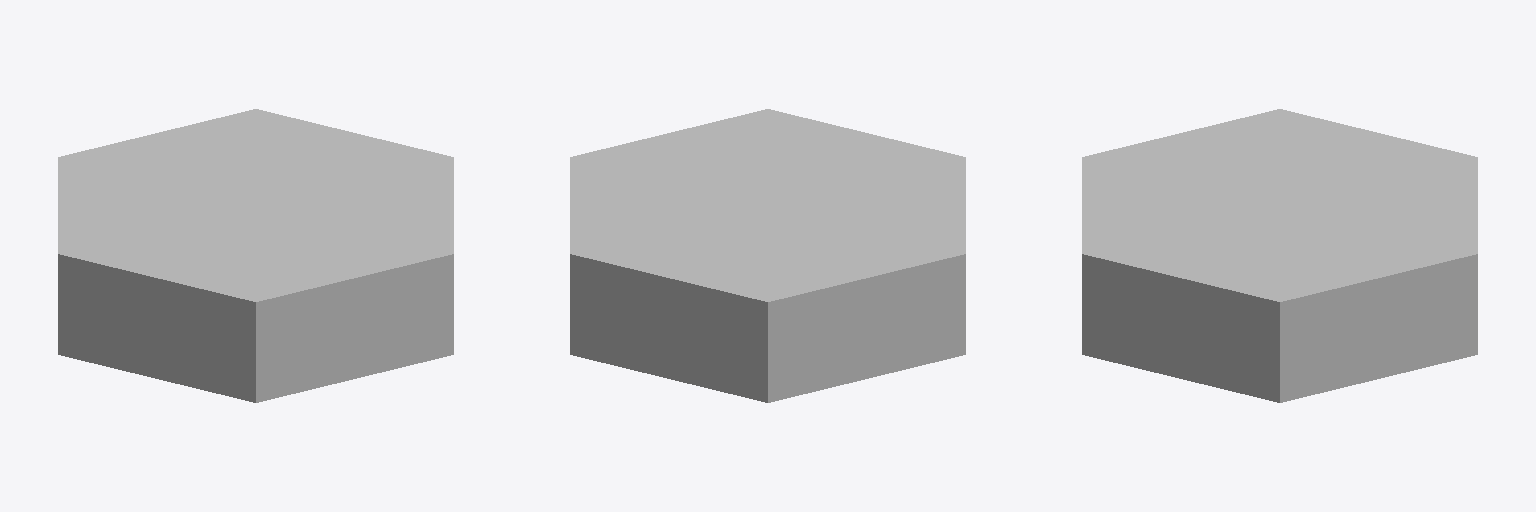
File: GYM.obj
3 views of the same model, side by side, from view 1: azimuth 30°, elevation 25°; view 2: azimuth 150°, elevation 25°; view 3: azimuth 270°, elevation 25° (orthographic).
Visible parts, largest first — view 1: 円柱; view 2: 円柱; view 3: 円柱.
Boxes of the visible parts, box(x1,y1,x2,y2) form: 円柱: box(58, 109, 453, 402); 円柱: box(570, 109, 965, 402); 円柱: box(1082, 109, 1477, 402).
Size of the model in its own units: 113 by 27.56 by 98.17.